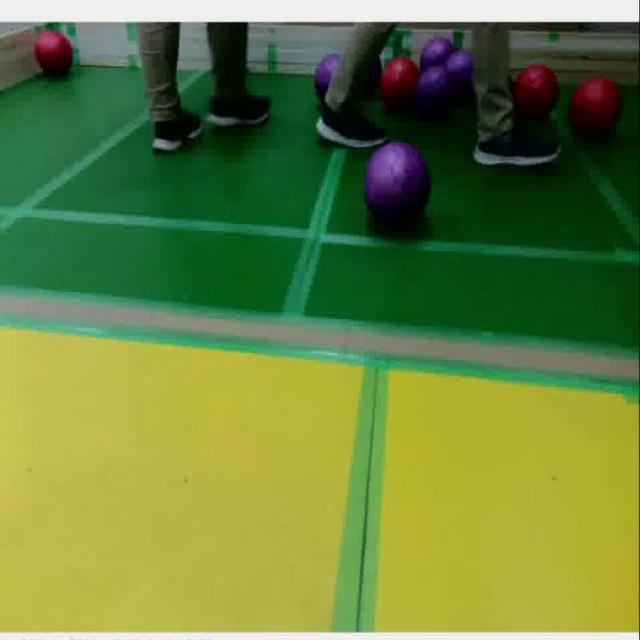purple_ball: (364, 146, 431, 230), (420, 65, 458, 124), (447, 47, 474, 98), (311, 52, 336, 99), (421, 36, 454, 66)
red_ball: (573, 80, 624, 147), (512, 63, 561, 117), (380, 58, 420, 117), (34, 31, 74, 77)
